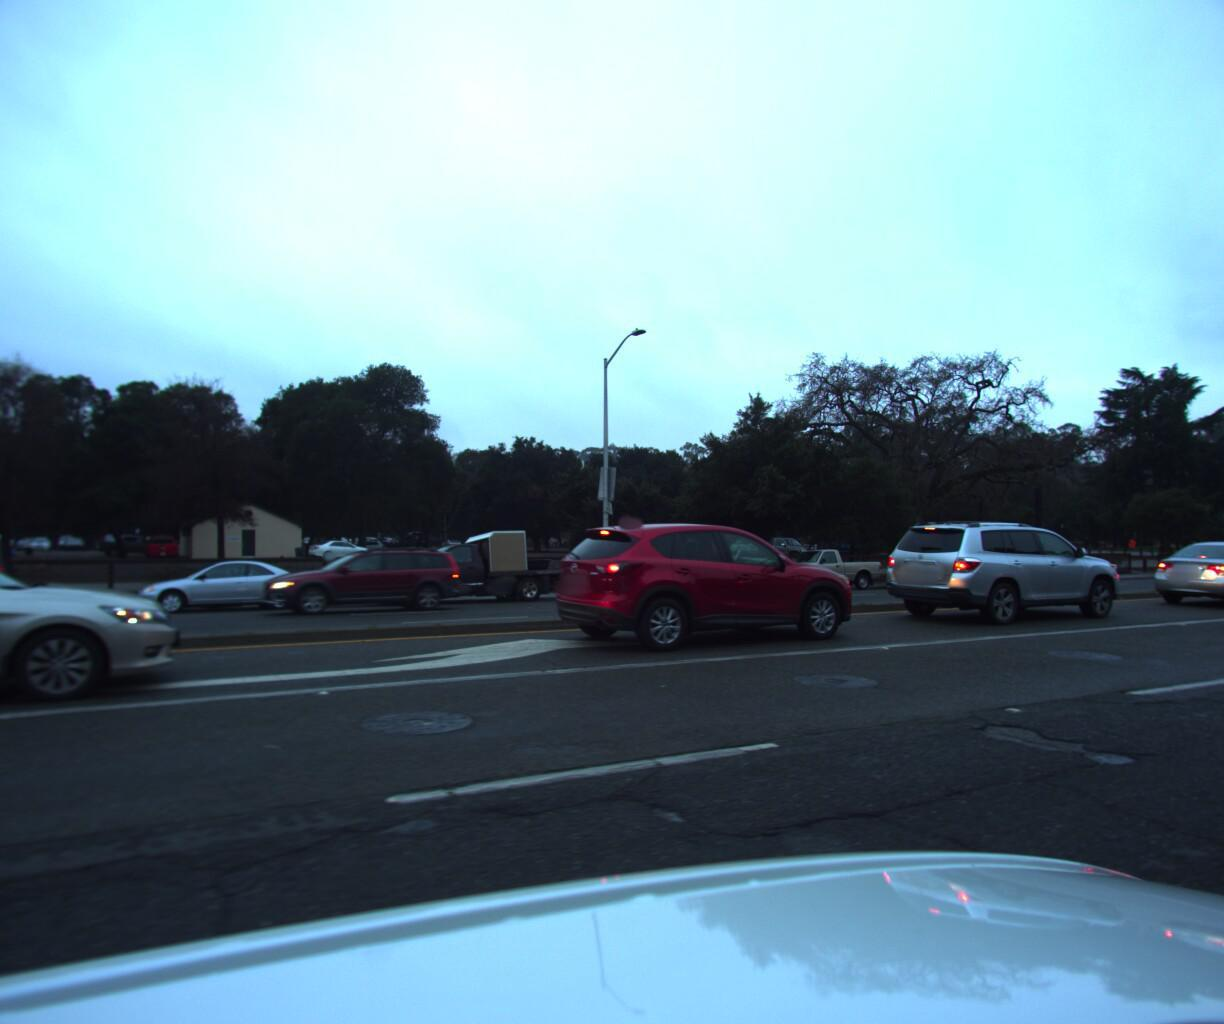car: (540, 514, 865, 663), (0, 516, 173, 778), (871, 511, 1126, 629), (361, 523, 576, 610), (276, 544, 485, 620), (126, 555, 317, 619), (754, 543, 882, 591), (1141, 535, 1224, 608), (0, 531, 21, 636)
